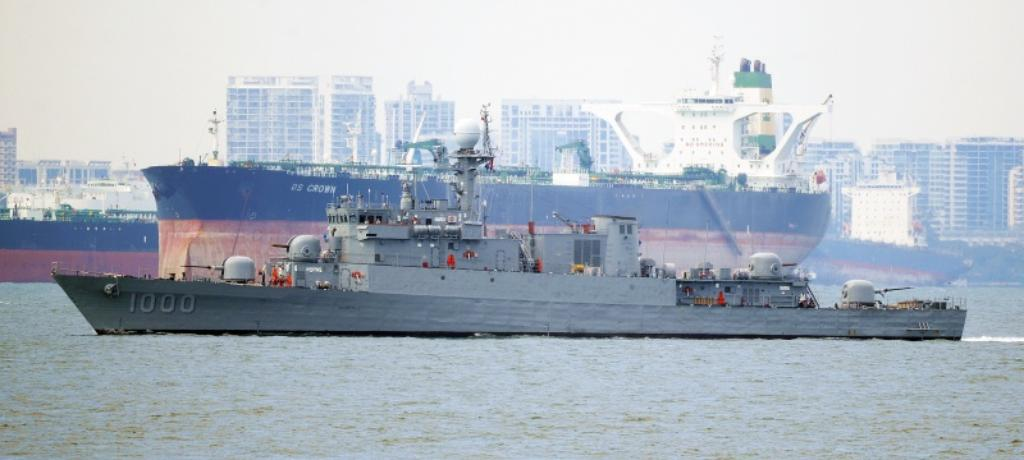Warship: (50, 102, 968, 344)
